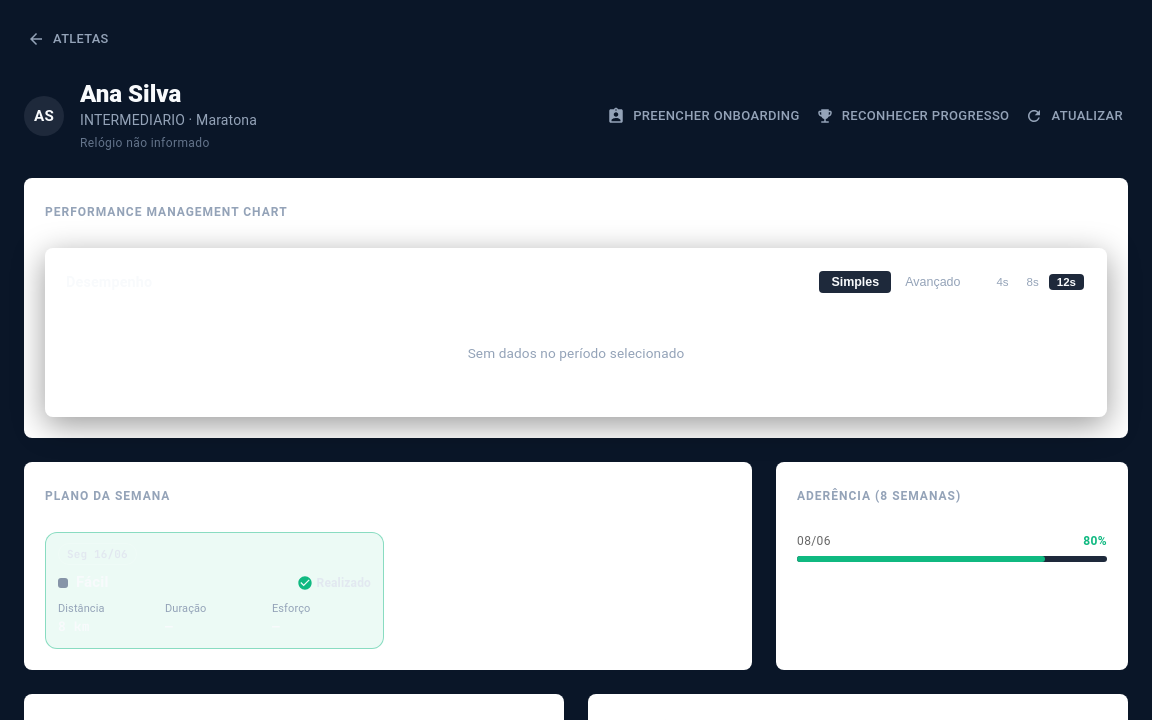
it: CoachAthleteProfilePage › abre o KudosDialog ao clicar em "Reconhecer progresso"
Click the button "Reconhecer progresso" at (914, 116), box [813,101,1014,132]
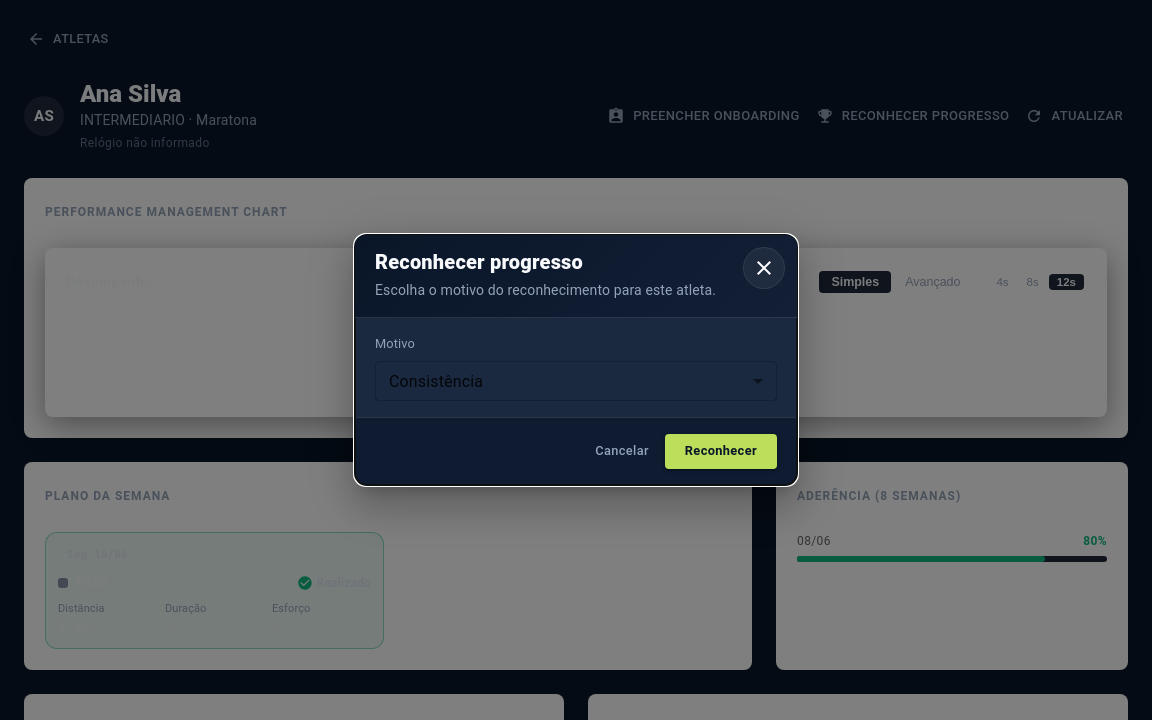
Check: the text "Escolha o motivo do reconhecimento para este atleta." is shown, box [375,280,733,301]
